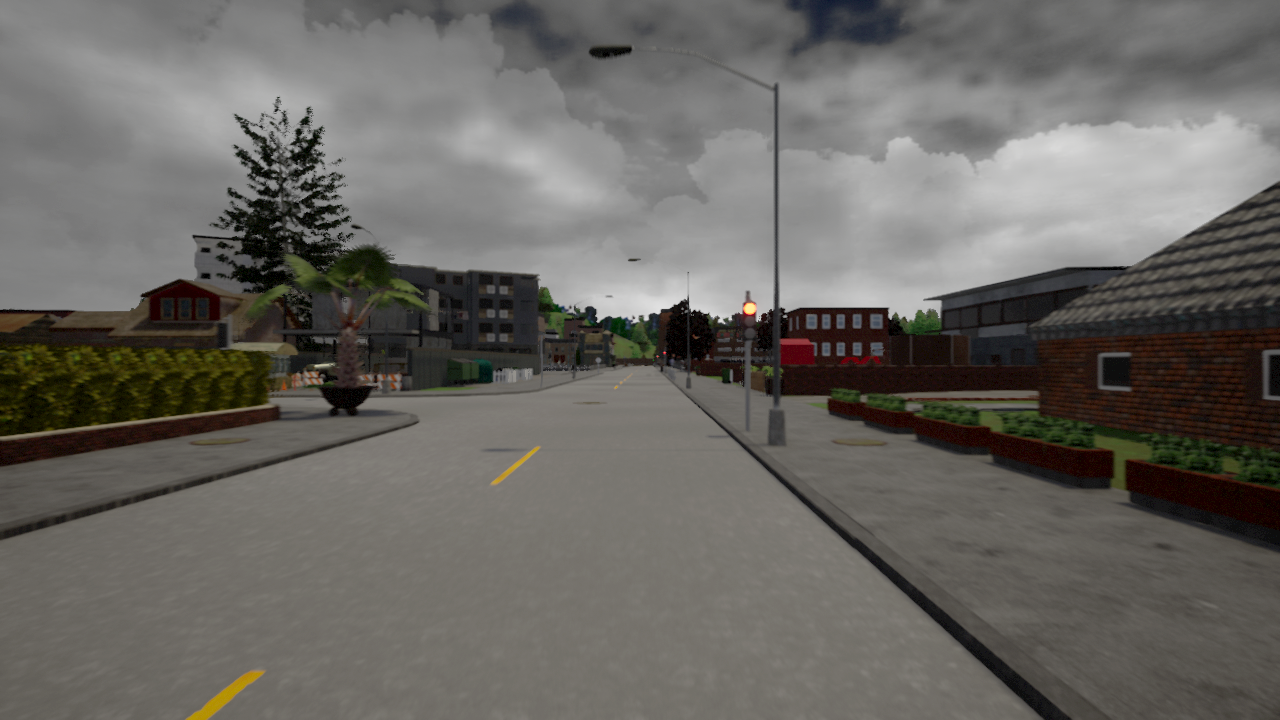red: (740, 300, 758, 341)
